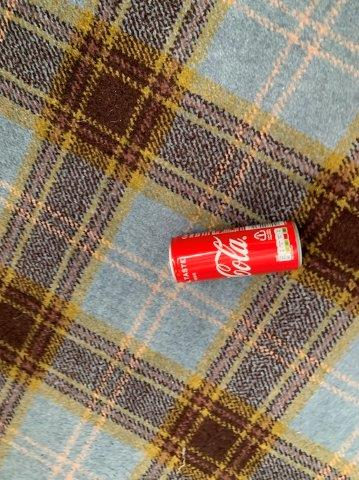kaleng: (171, 221, 301, 282)
